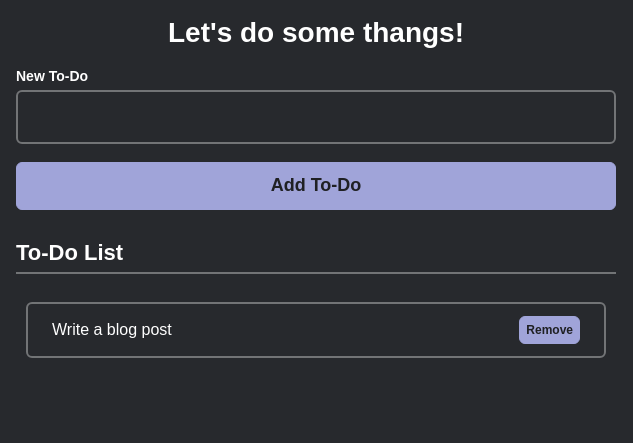
Test: Adding a Todo › my new recorded test is fresh
Expected: the heading with test id "page-title" reads "Let's do some thangs!", 168,17 -> 464,48
In the field with test id "new-todo": (316, 117) 16,90 -> 616,144, type "Cut the grass"
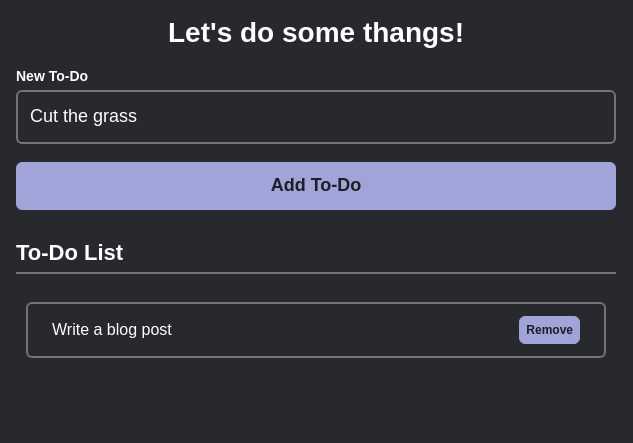
Click the button with test id "add-button": (316, 186) 16,162 -> 616,210
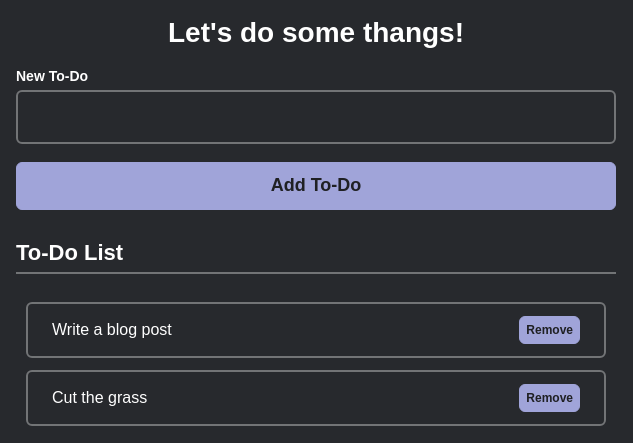
Now the text with test id "todo-item" reads "Cut the grass", box 52,389 -> 147,407
